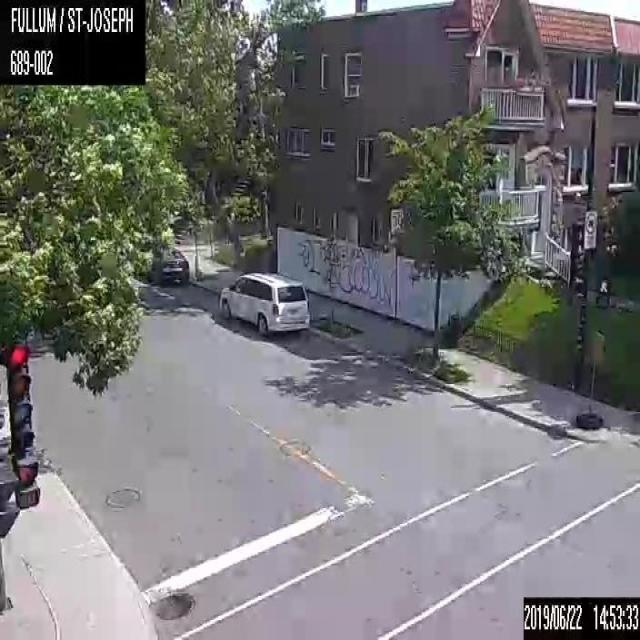construction: (576, 330, 604, 428)
vehicle: (216, 269, 311, 343), (145, 245, 190, 288)
